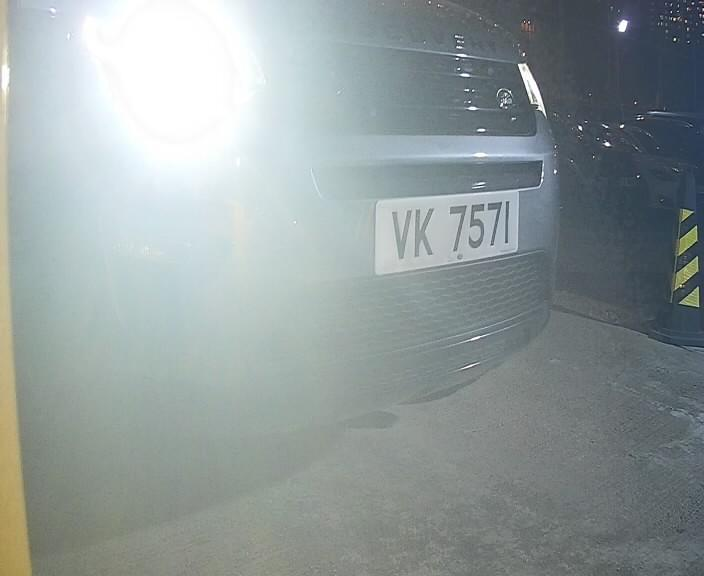privatecar: (2, 2, 588, 449)
